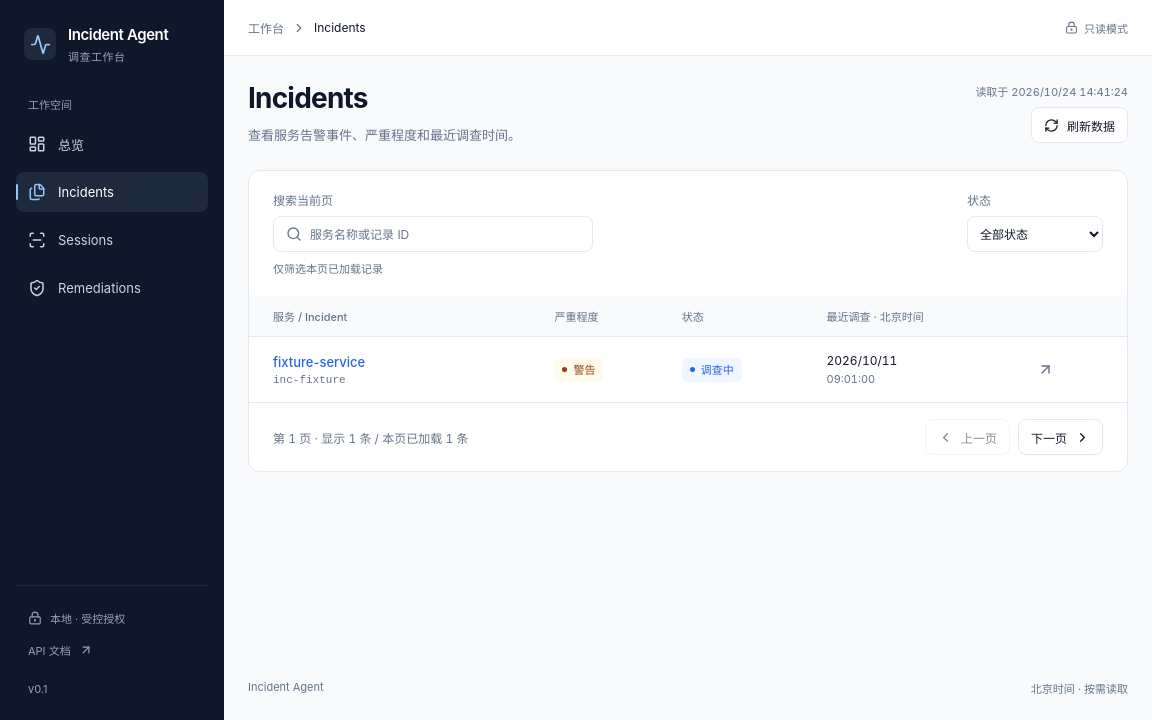
Scenario: paginates server results, searches only the current page, and resets offset on filter change
Expected: the link "fixture-service" is shown, 273,354 -> 365,370
Type "no-match" into the field labelled "搜索当前页".
click(445, 234); type("no-match")  # box 310,219 -> 580,250
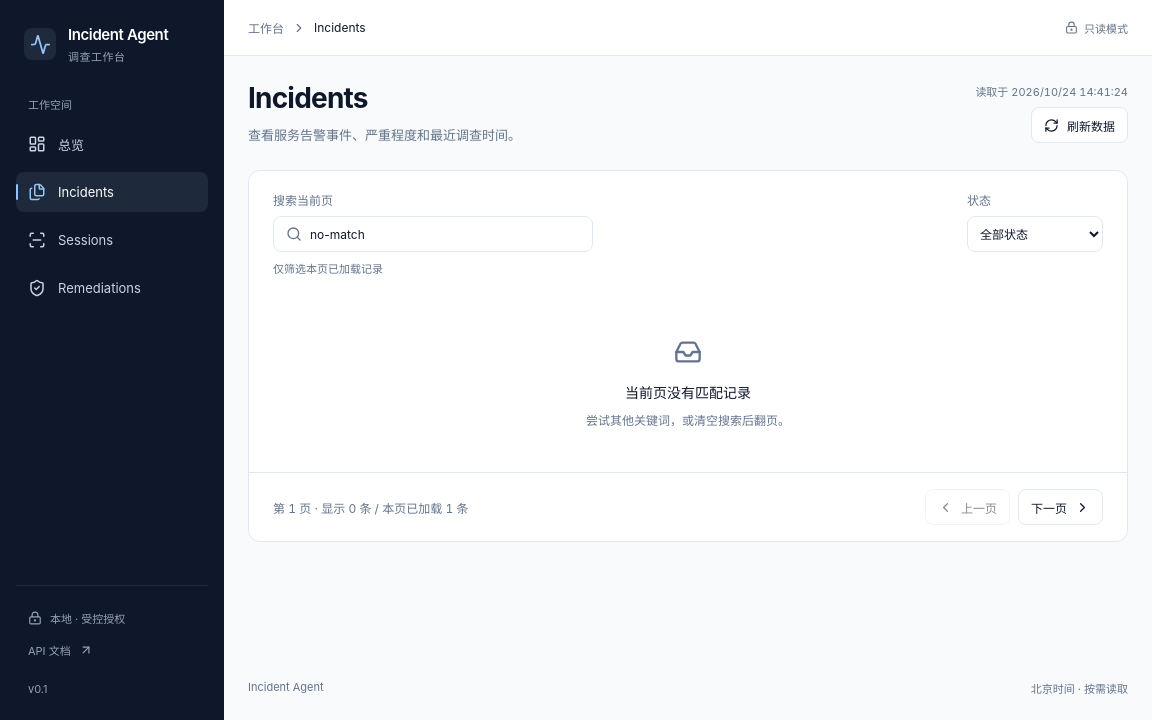
Result: the heading "当前页没有匹配记录" is shown at 625,382 -> 751,402
Click the button "下一页".
click(1060, 508)  # box 1018,490 -> 1103,526
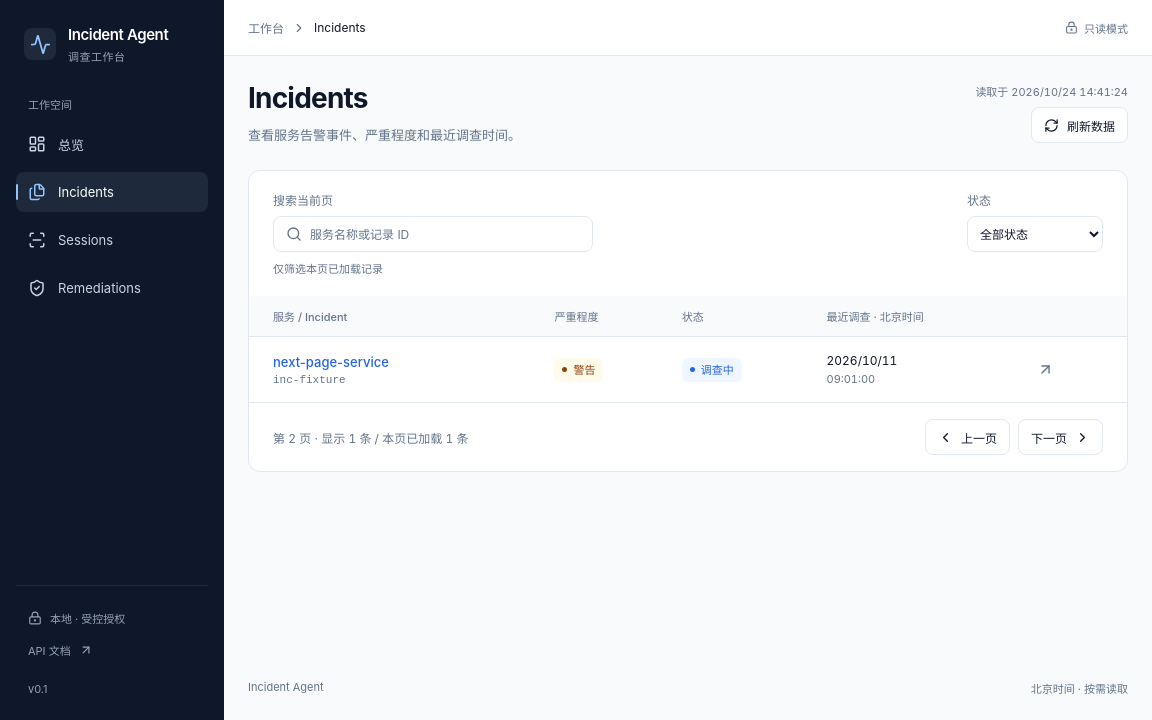
Result: the link "next-page-service" is shown at 273,354 -> 389,370
Select "已解决" in the dropdown labelled "状态" at (1035, 234), box 967,216 -> 1103,252
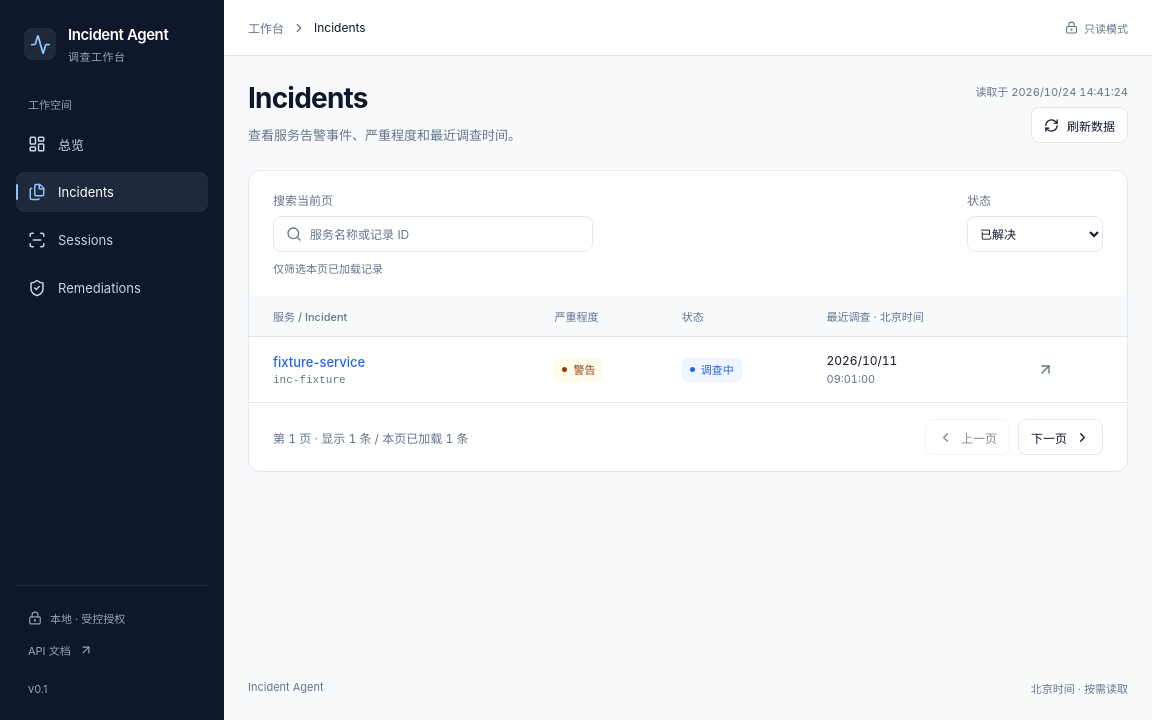
Result: the link "fixture-service" is shown at 273,354 -> 365,370
